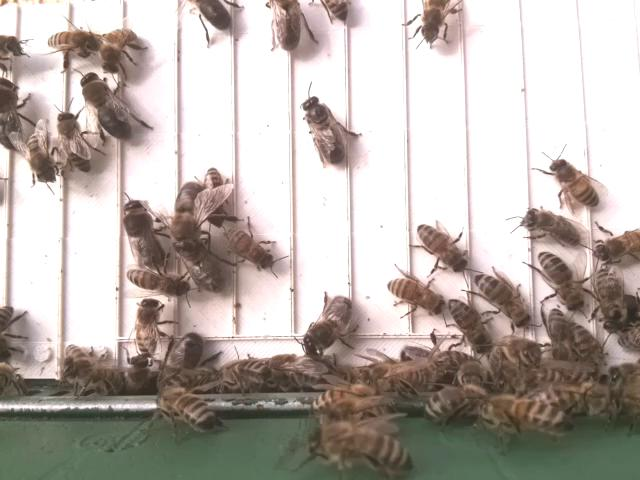Drone: (77, 67, 135, 140), (302, 293, 356, 358), (177, 231, 230, 297), (122, 194, 166, 273), (298, 93, 343, 170)
Worker: (470, 270, 532, 331), (536, 248, 584, 314), (414, 220, 471, 273), (548, 154, 601, 210), (446, 293, 492, 354), (55, 108, 97, 174), (521, 205, 581, 248), (384, 275, 447, 315), (591, 263, 625, 337), (224, 226, 276, 272), (99, 24, 140, 74), (199, 162, 230, 228), (26, 124, 59, 186), (592, 222, 640, 264), (134, 294, 165, 359), (43, 27, 101, 56)
